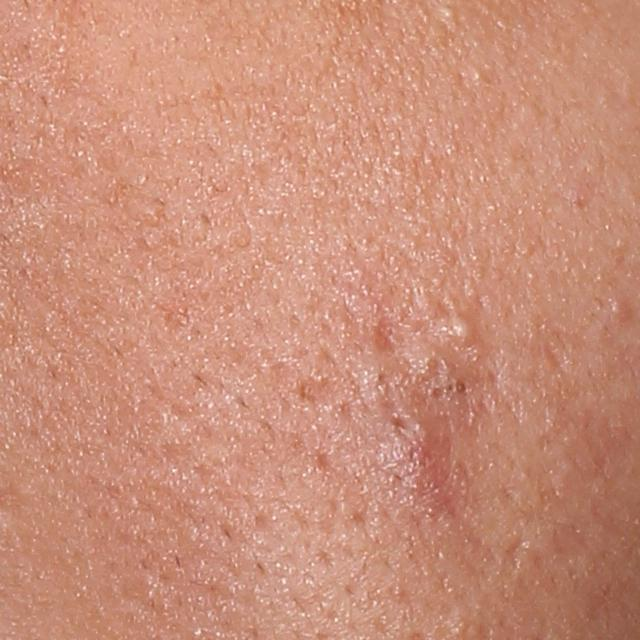atrophic_scar: (500, 536, 528, 576), (372, 317, 400, 353)
comedo: (444, 313, 483, 351), (607, 297, 635, 325), (451, 376, 472, 398), (427, 382, 446, 404), (440, 4, 456, 22)
